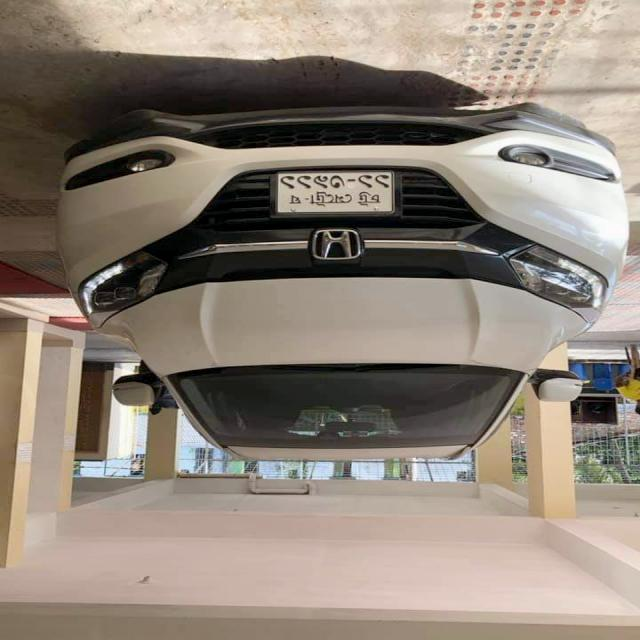white: (54, 107, 628, 458)
